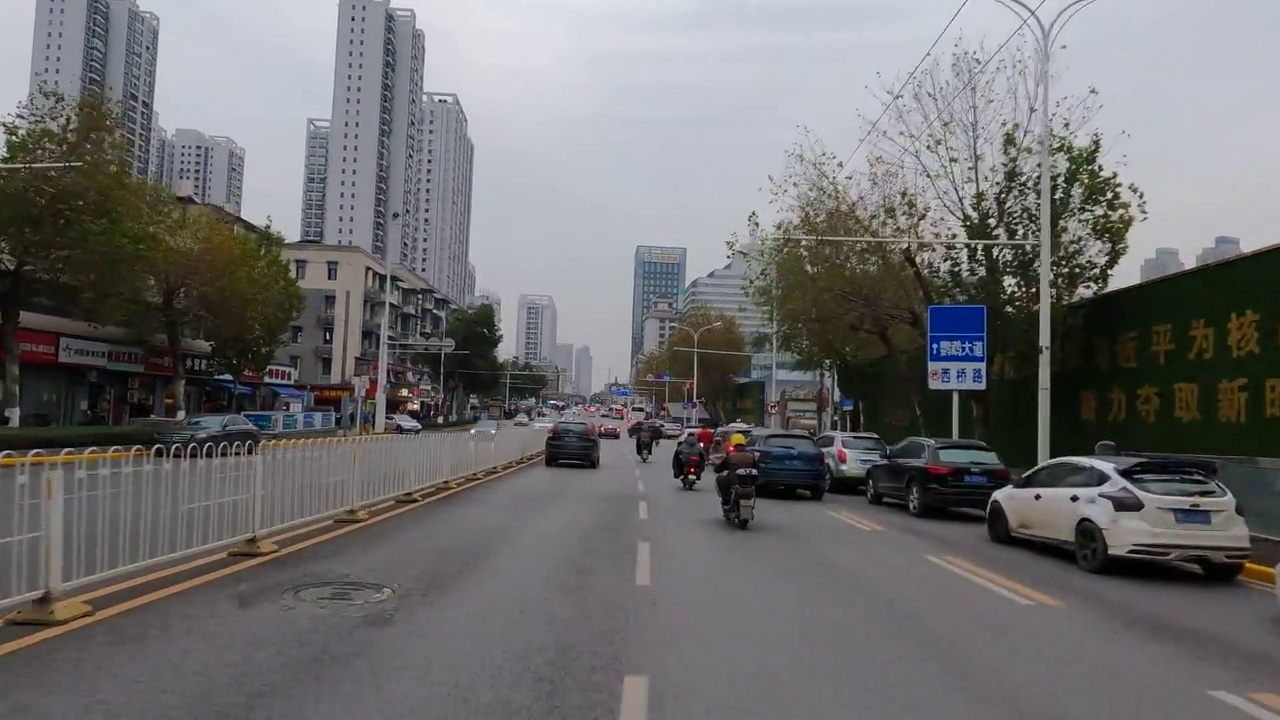lane: (1, 545, 312, 658), (922, 554, 1068, 609), (1207, 689, 1280, 720), (822, 503, 888, 536), (615, 674, 649, 720), (629, 537, 654, 590)
